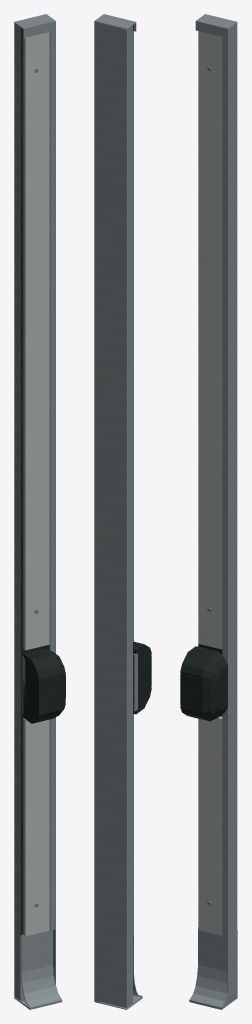
The model's file is AST-STF-003.glb.
3 views of the same model, side by side, from view 1: azimuth 30°, elevation 25°; view 2: azimuth 150°, elevation 25°; view 3: azimuth 330°, elevation 25° (orthographic).
Visible parts, largest first — view 1: ASTRAEA_staff_wall_staff_white_paint, ASTRAEA_staff_wall_staff_zinc, ASTRAEA_staff_wall_staff_rubber; view 2: ASTRAEA_staff_wall_staff_zinc, ASTRAEA_staff_wall_staff_rubber; view 3: ASTRAEA_staff_wall_staff_white_paint, ASTRAEA_staff_wall_staff_zinc, ASTRAEA_staff_wall_staff_rubber.
Boxes of the visible parts, x1=… form: ASTRAEA_staff_wall_staff_white_paint: x1=23, y1=32, x2=49, y2=936; ASTRAEA_staff_wall_staff_zinc: x1=14, y1=14, x2=62, y2=1009; ASTRAEA_staff_wall_staff_rubber: x1=20, y1=28, x2=65, y2=935; ASTRAEA_staff_wall_staff_zinc: x1=94, y1=14, x2=142, y2=1009; ASTRAEA_staff_wall_staff_rubber: x1=133, y1=25, x2=151, y2=936; ASTRAEA_staff_wall_staff_white_paint: x1=198, y1=31, x2=222, y2=935; ASTRAEA_staff_wall_staff_zinc: x1=189, y1=14, x2=237, y2=1009; ASTRAEA_staff_wall_staff_rubber: x1=180, y1=69, x2=228, y2=903.
Size of the model in its own units: 0.09 by 2.6 by 0.12.
3 materials, 3 textured.
